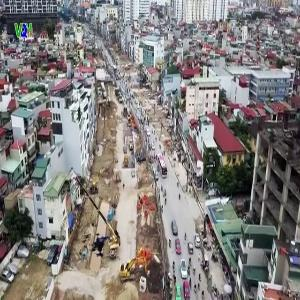drone: (85, 225, 128, 268)
